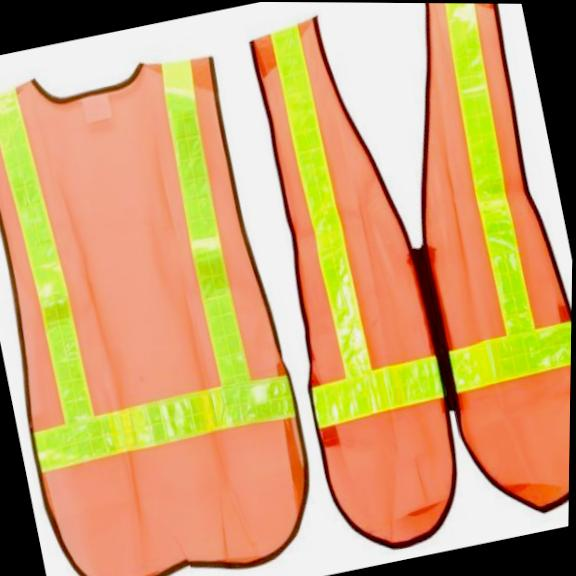safety_vest: (224, 2, 576, 561), (0, 40, 336, 576)
